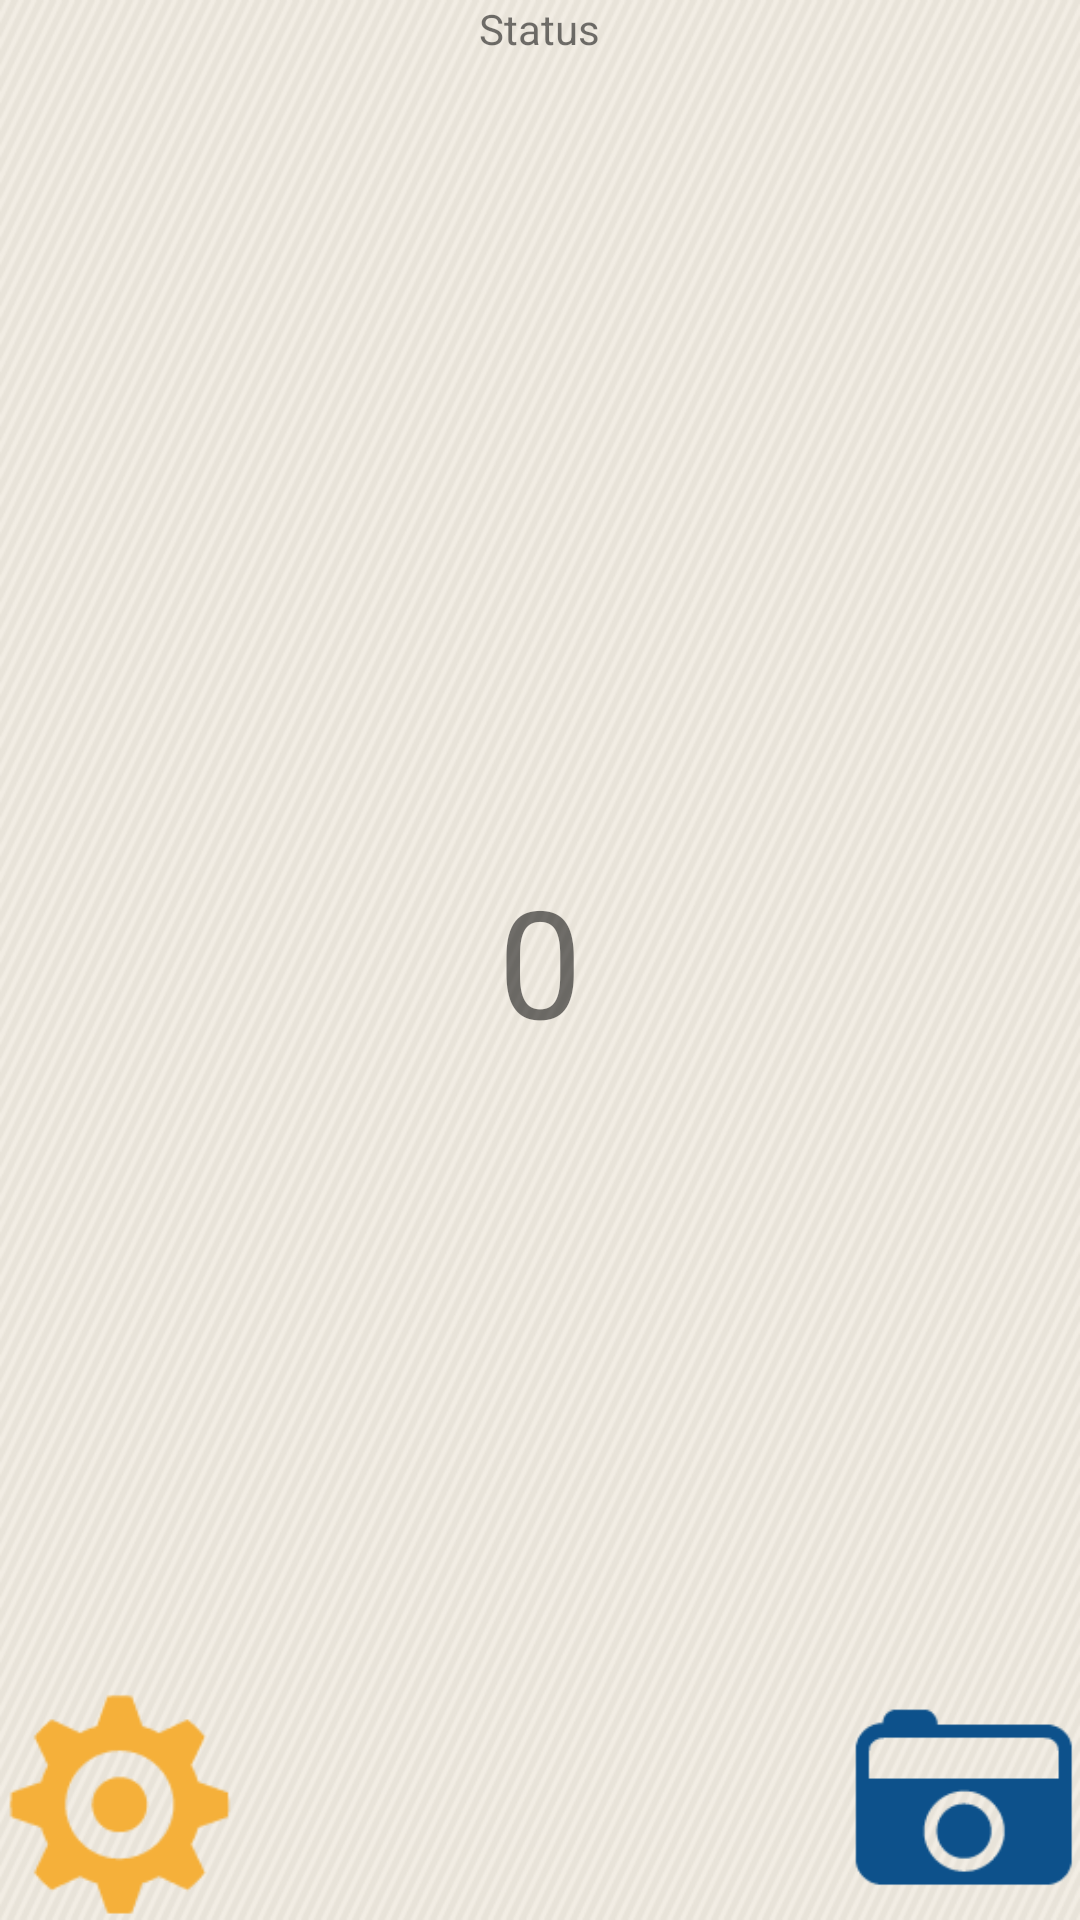

Locate icon controls on the screen. Image size 1080x1920, boxes as (x1, y1, x2, y2).
camera: (855, 1709, 1072, 1885)
settings: (9, 1695, 230, 1914)
